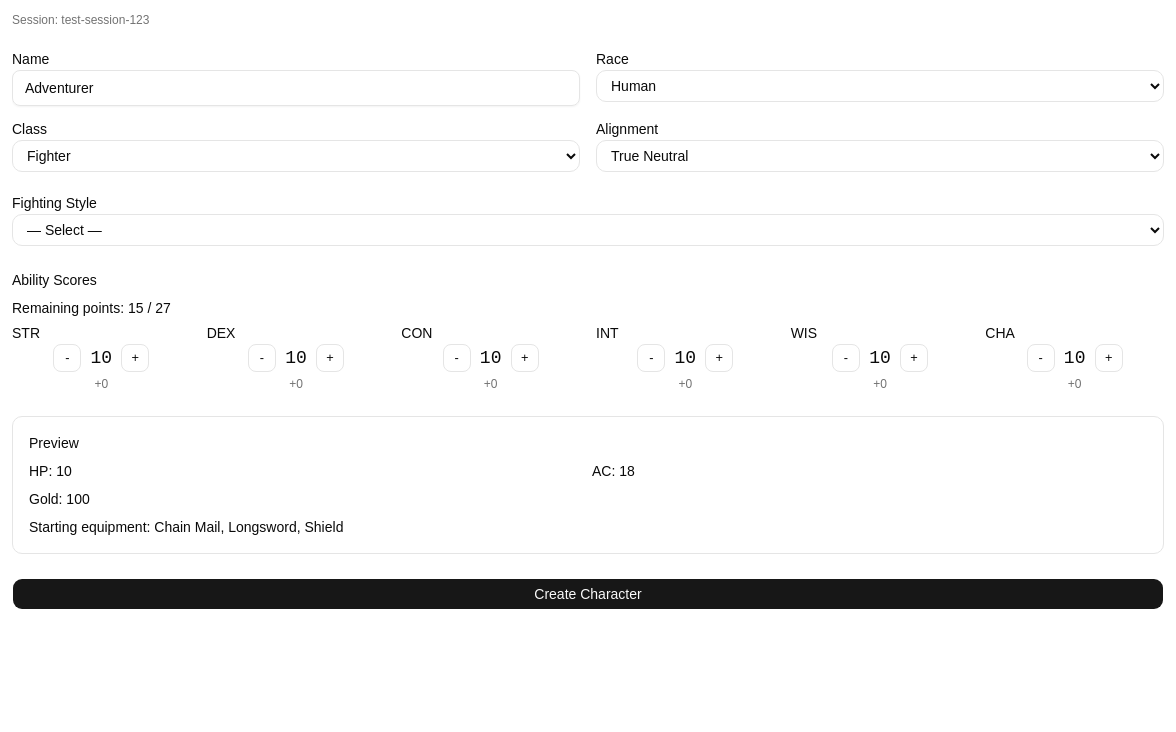
CharacterForm — Point Buy › disables + button at score 15
The width and height of the screenshot is (1176, 732).
Click the button with test id "str-plus": {"x": 135, "y": 358} [121,344,149,372]
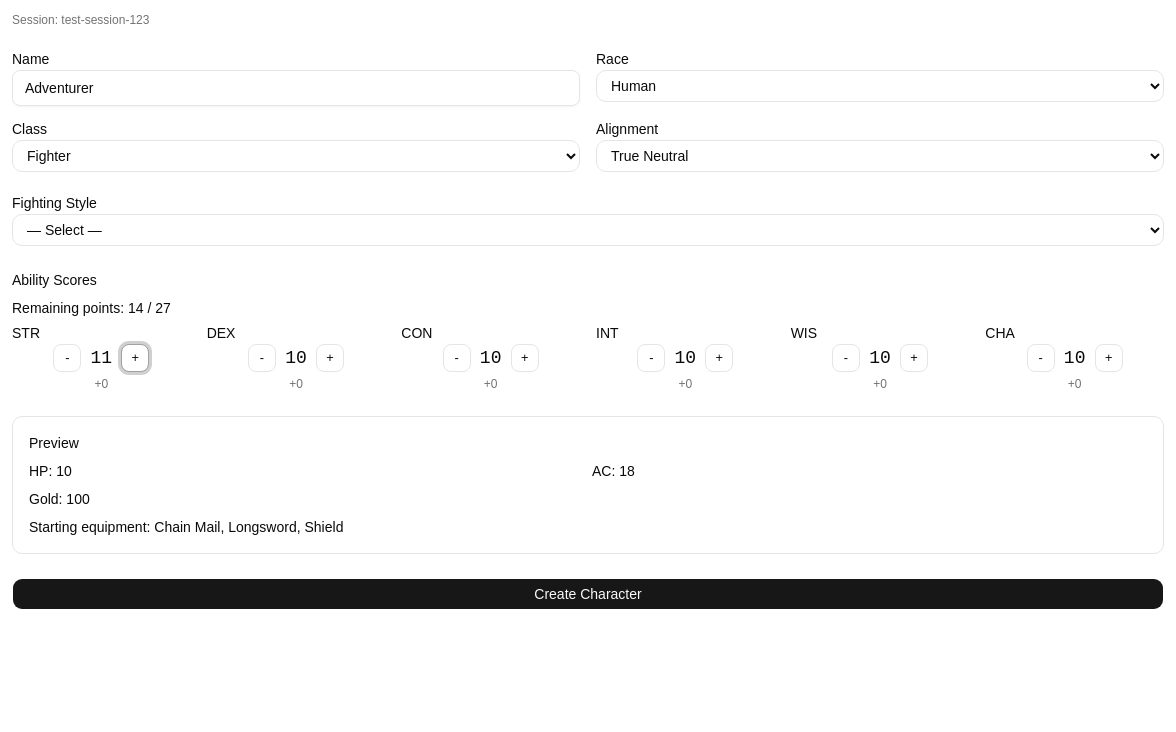
Click the button with test id "str-plus": {"x": 135, "y": 358} [121,344,149,372]
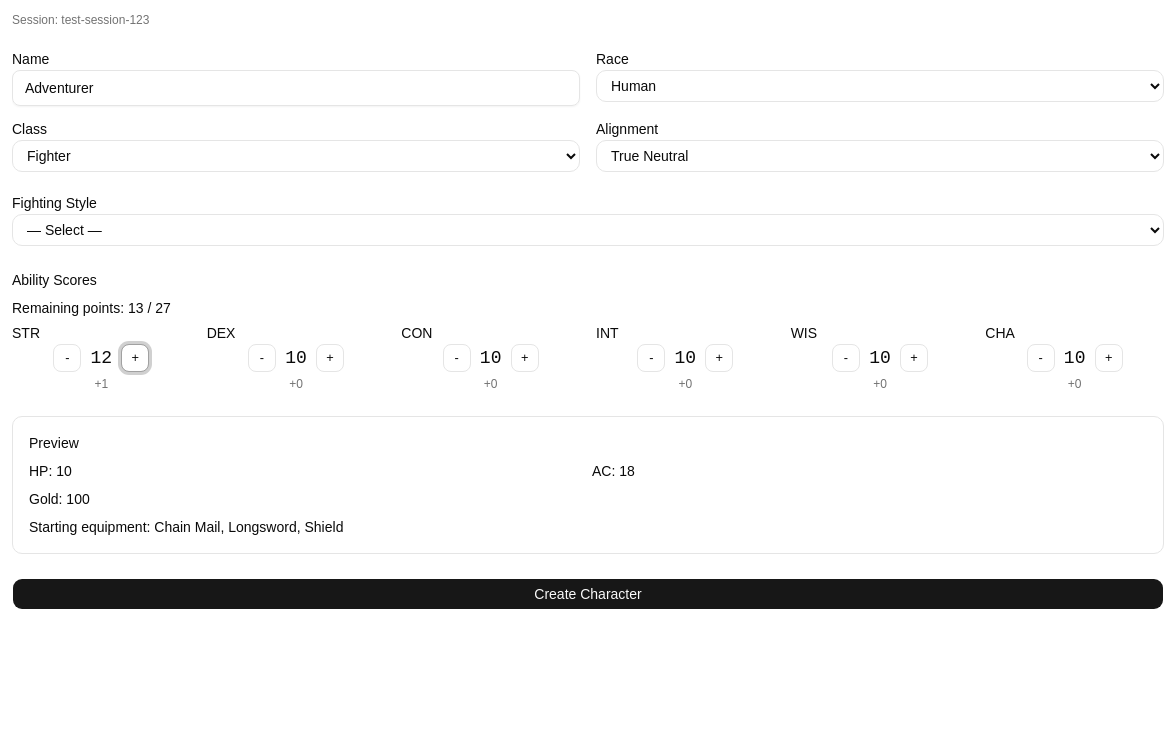
Click the button with test id "str-plus": {"x": 135, "y": 358} [121,344,149,372]
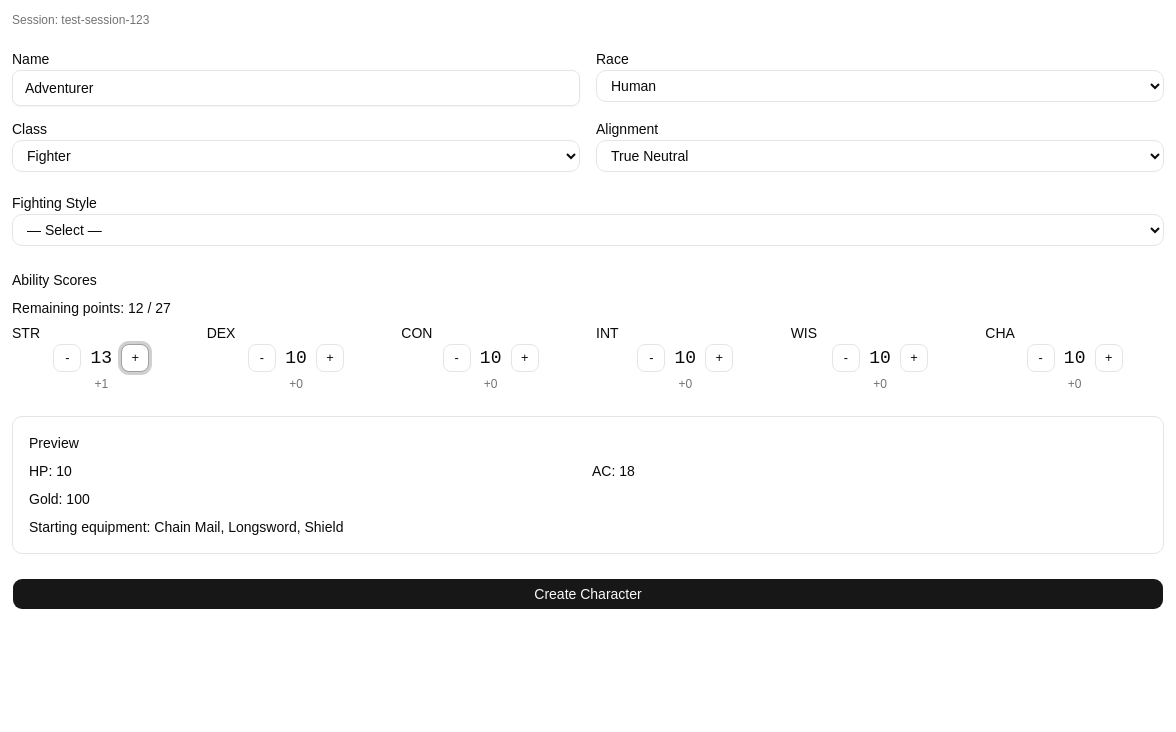
Click the button with test id "str-plus": {"x": 135, "y": 358} [121,344,149,372]
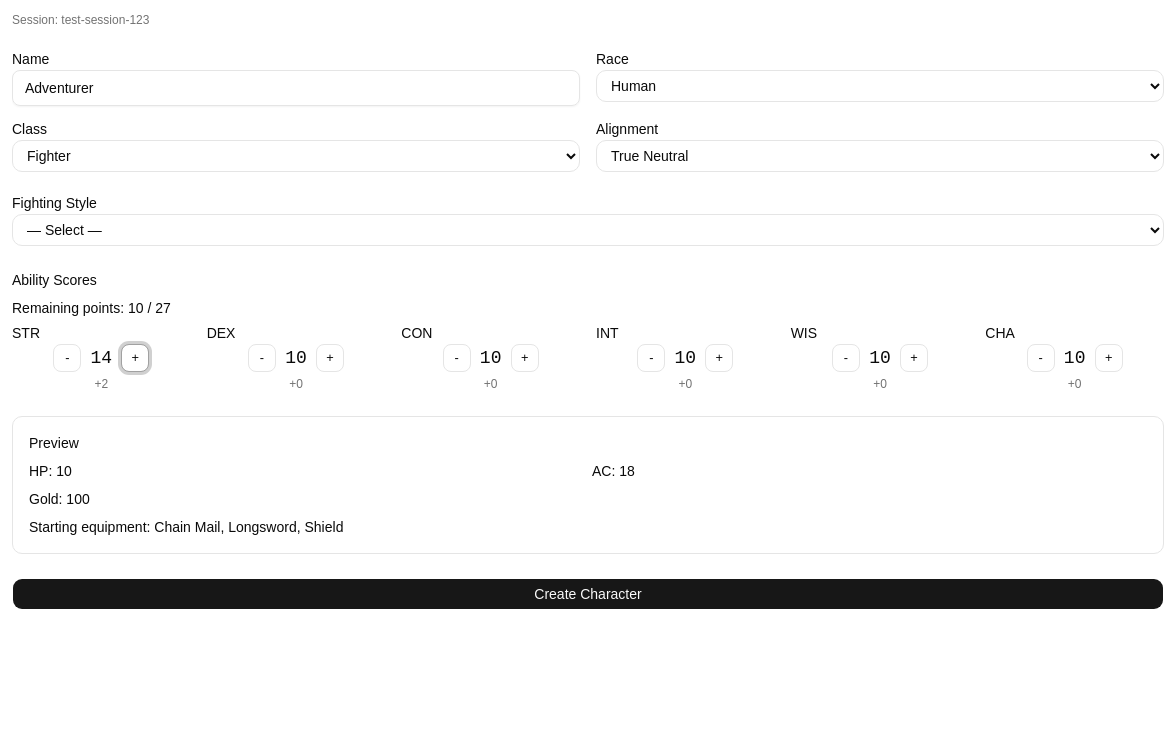
Click the button with test id "str-plus": {"x": 135, "y": 358} [121,344,149,372]
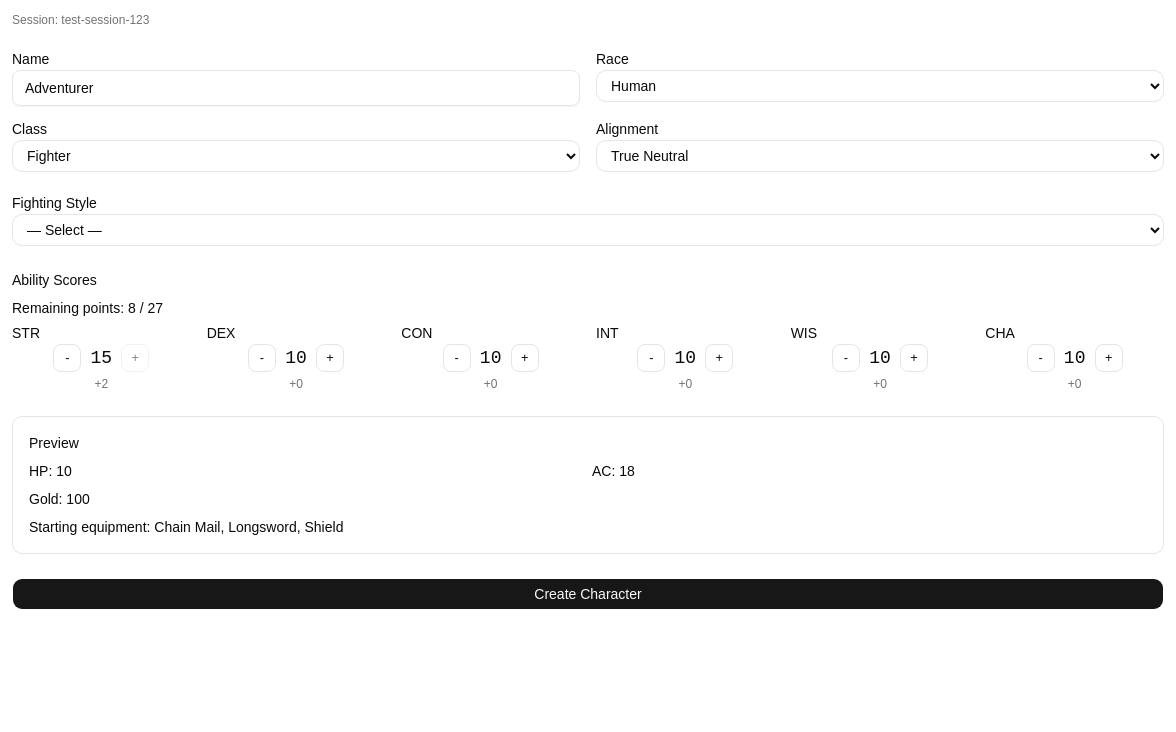
Result: the text with test id "str-score" reads "15" at [90,348,112,368]
